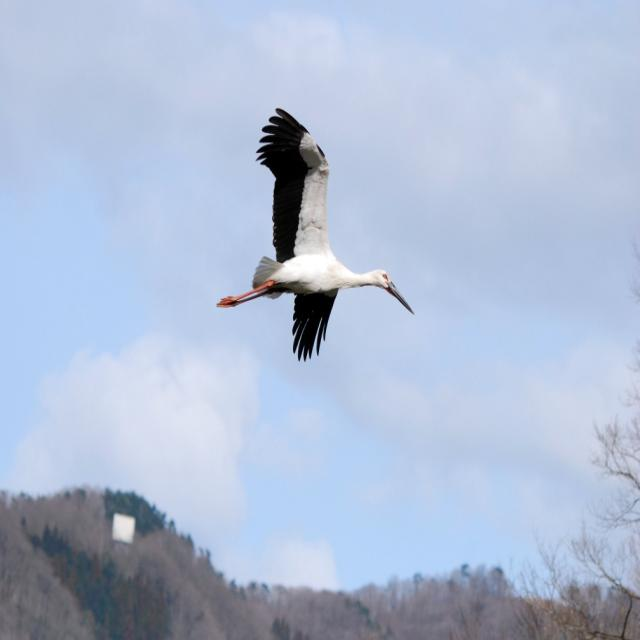bird: (218, 102, 416, 366)
